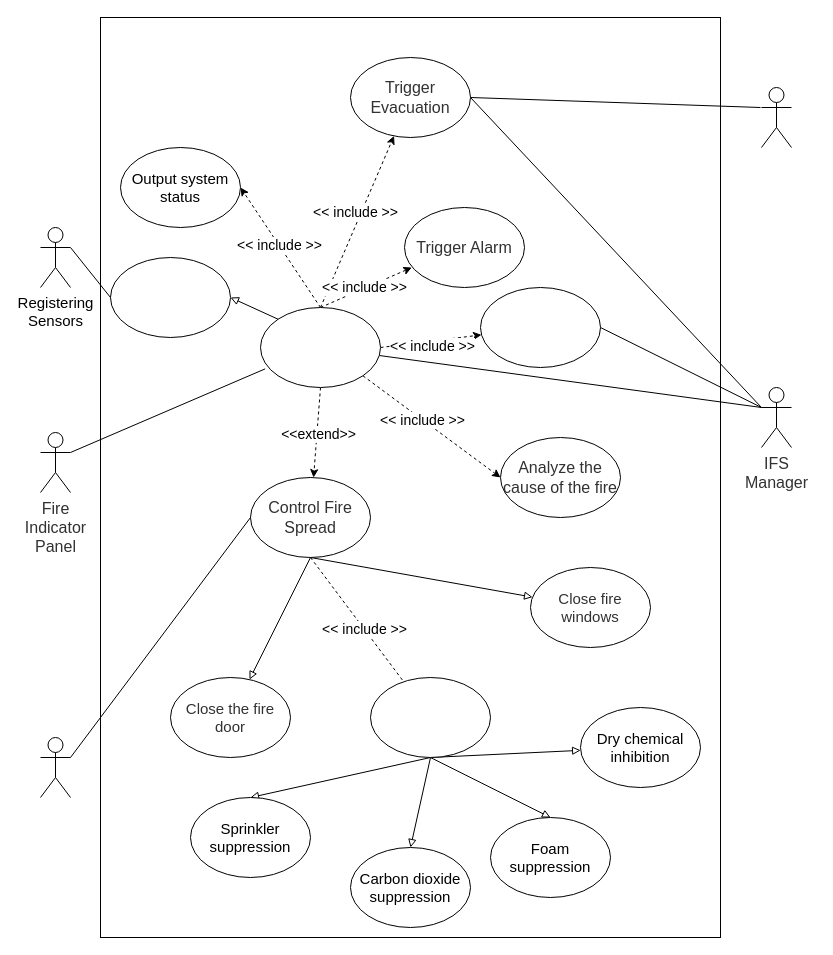
The diagram is 833 pixels wide and 955 high, and some of its shapes have lost their labels. The box of each missing label's shape, as (x1, y1, x2, y2) in pixels:
Activate Suppression Systems: (370, 676, 490, 758)
Automatic monitoring: (110, 256, 230, 338)
Evacuation Warden: (760, 86, 792, 148)
Evaluate Fire Severity: (480, 286, 600, 368)
FIP Control Hub: (260, 306, 380, 388)
Firefighter: (40, 736, 70, 798)
